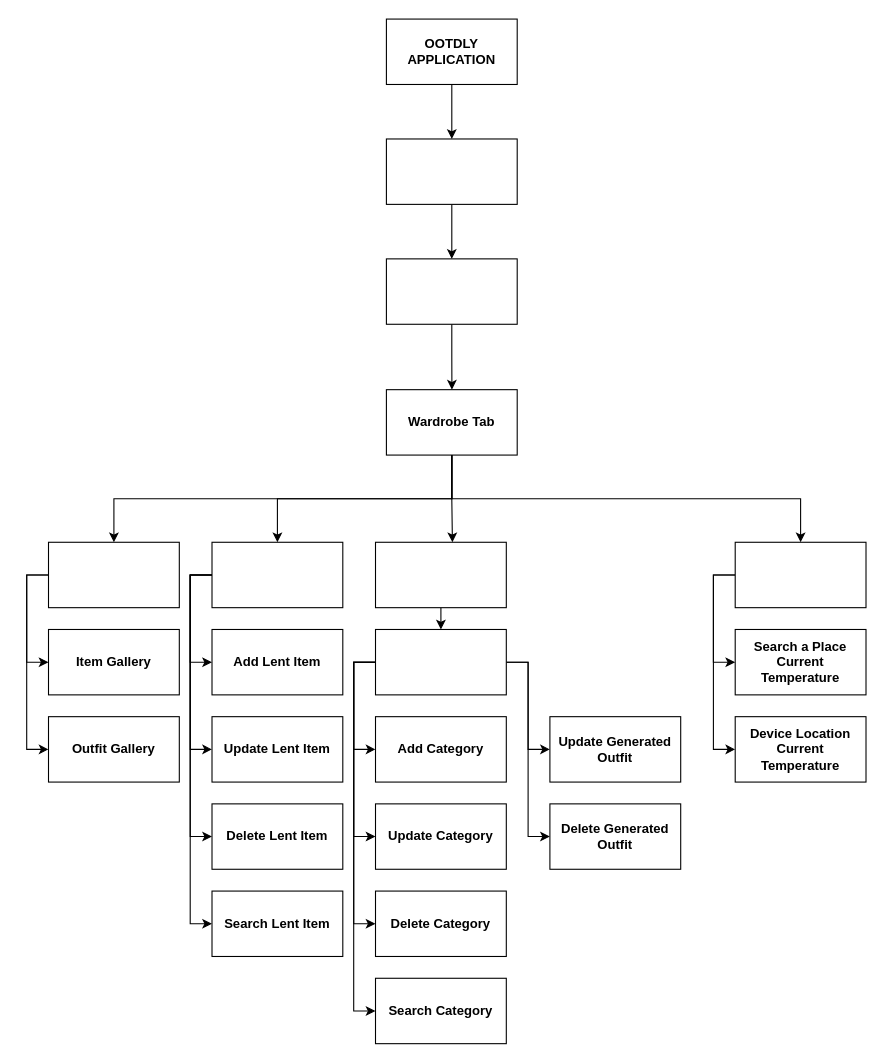
This 885x1063 diagram has some shape labels left out. The shapes that lost their labels are listed below. From the top down, each one's box as (x1, y1, x2, y2) in pixels, then its label:
(385, 138, 517, 204): Google / Apple Account Registration
(385, 258, 517, 324): Google / Apple Account Login
(47, 541, 179, 608): Wardrobe Gallery
(211, 541, 343, 608): Lent Items
(374, 541, 506, 608): Generated Outfits
(734, 541, 866, 608): Location Current Temperature
(374, 628, 506, 695): Category
